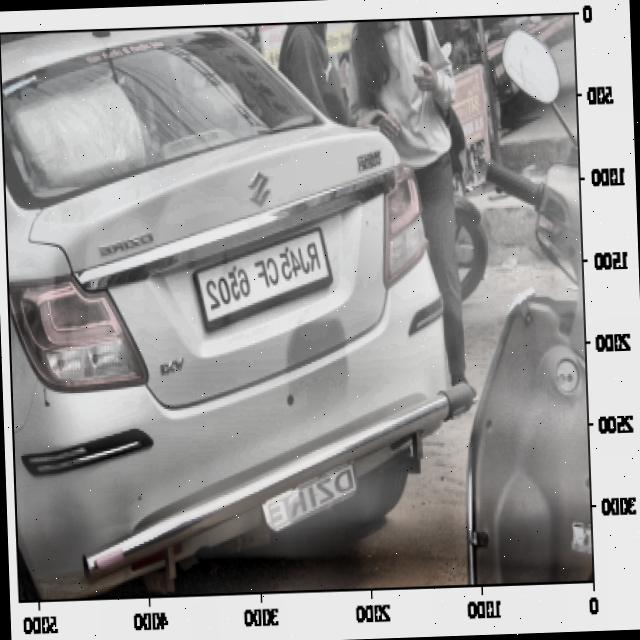license_plate: (200, 236, 326, 318)
